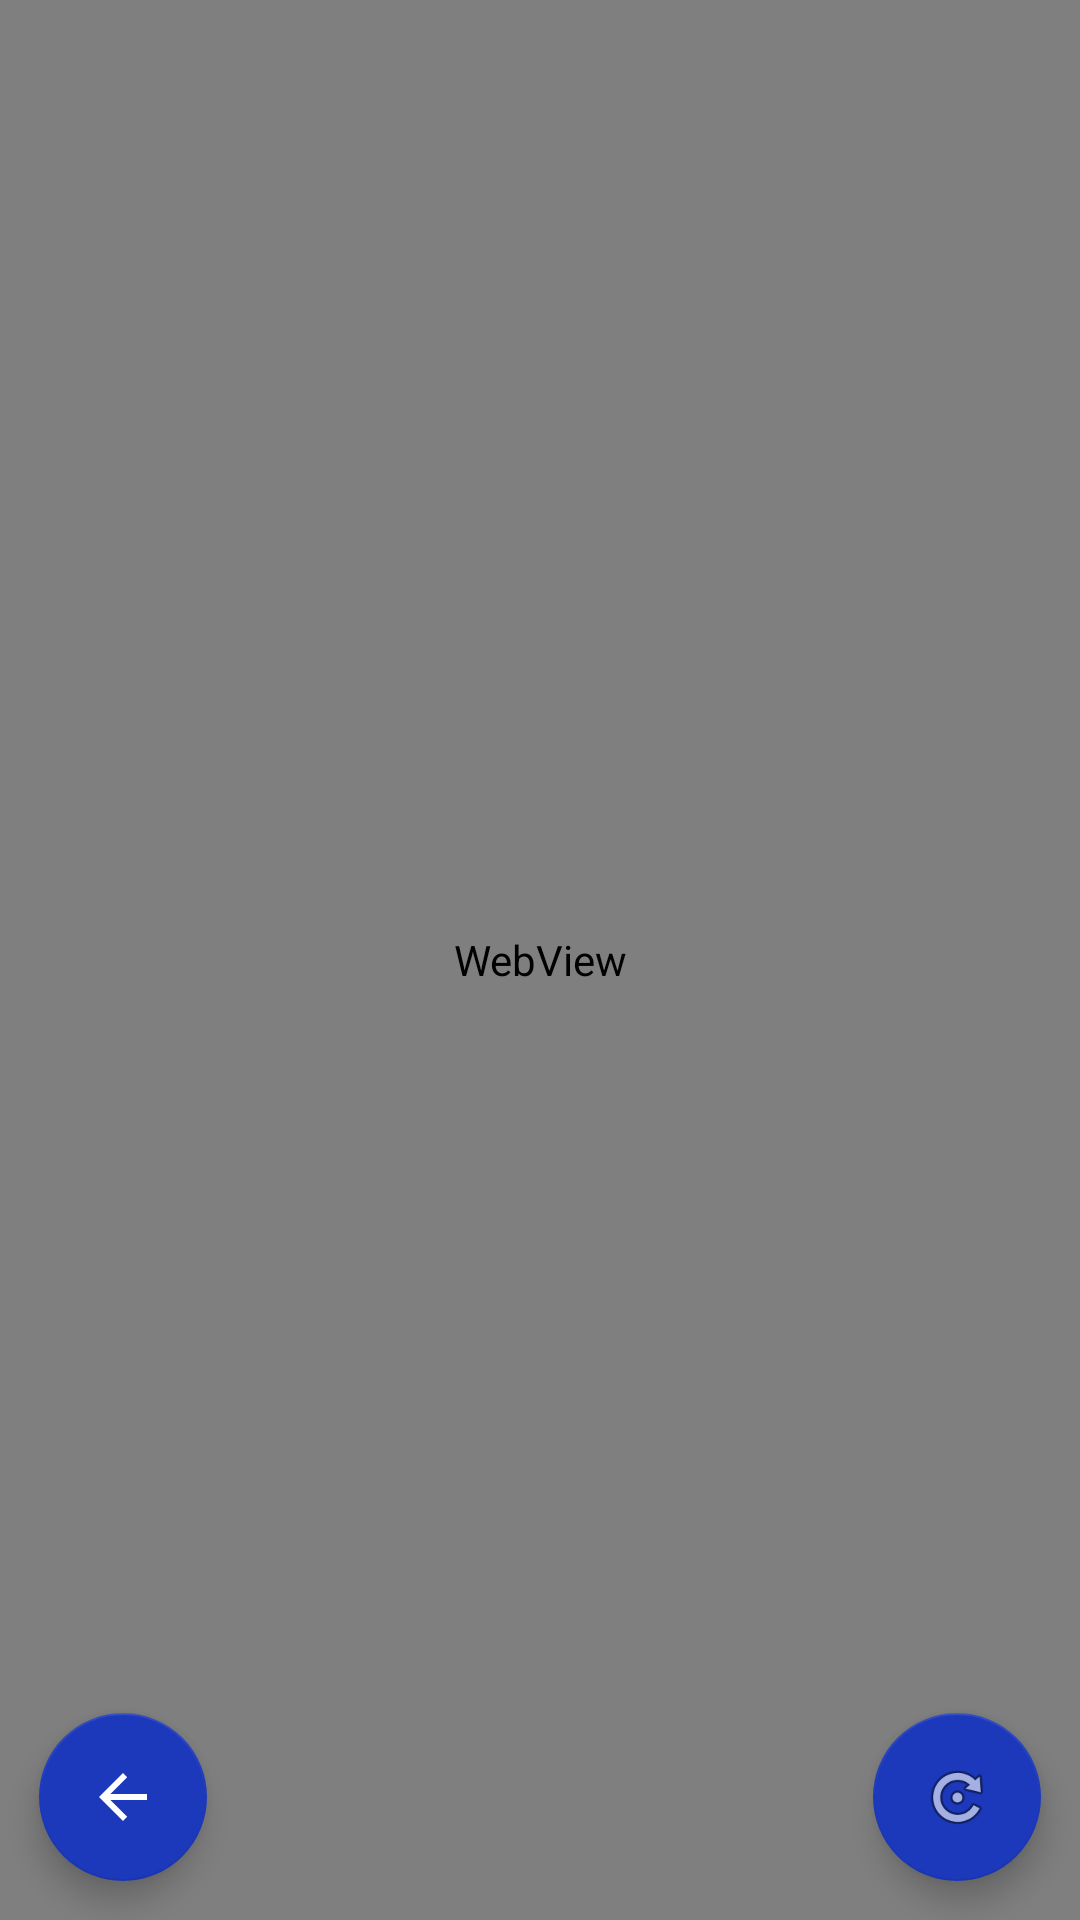

Icons on this 1080 × 1920 Android screen, each with its box as [x1,y1,x2,y2]:
rotate: [873,1713,1041,1881]
